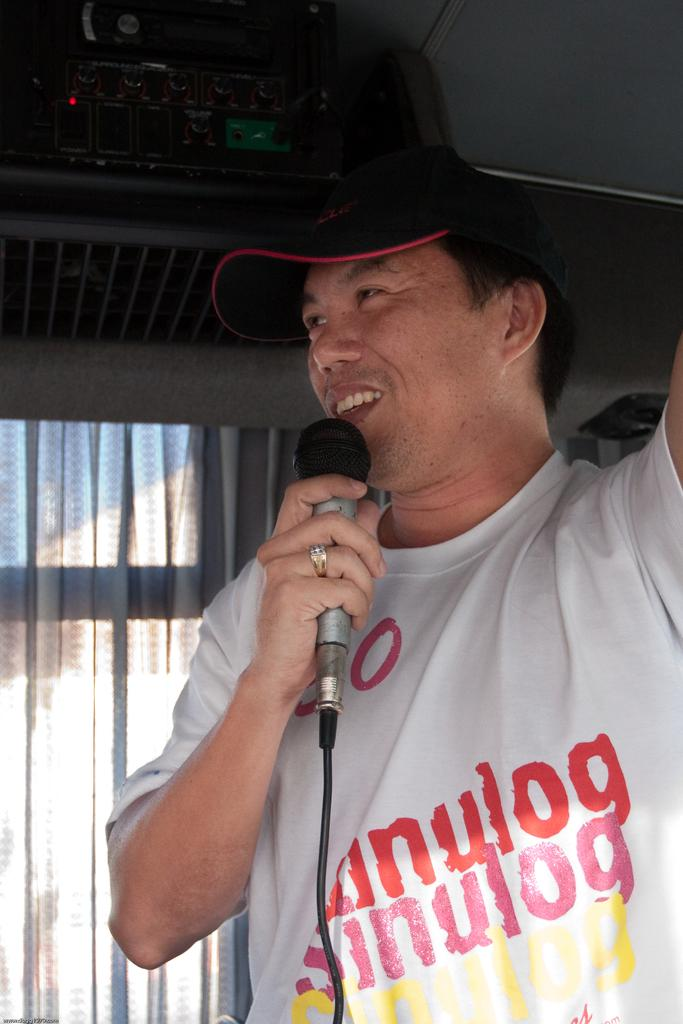Hat: (211, 210, 444, 346)
